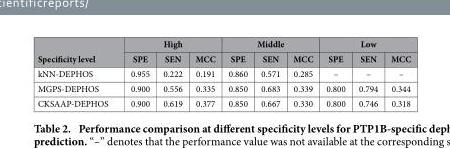table: (36, 37, 410, 108)
table column: (36, 37, 118, 108), (118, 37, 155, 108), (155, 37, 188, 108), (188, 37, 221, 108), (285, 37, 318, 108), (318, 37, 351, 108), (221, 37, 253, 108), (253, 37, 285, 108), (351, 37, 383, 108), (383, 37, 410, 108)
table column header: (36, 37, 410, 65)
table row: (36, 50, 410, 65), (36, 65, 410, 80), (36, 80, 410, 95), (36, 37, 410, 50), (36, 95, 410, 108)
table spanning cell: (36, 37, 118, 65), (118, 37, 221, 50), (221, 37, 318, 50), (318, 37, 410, 50)
